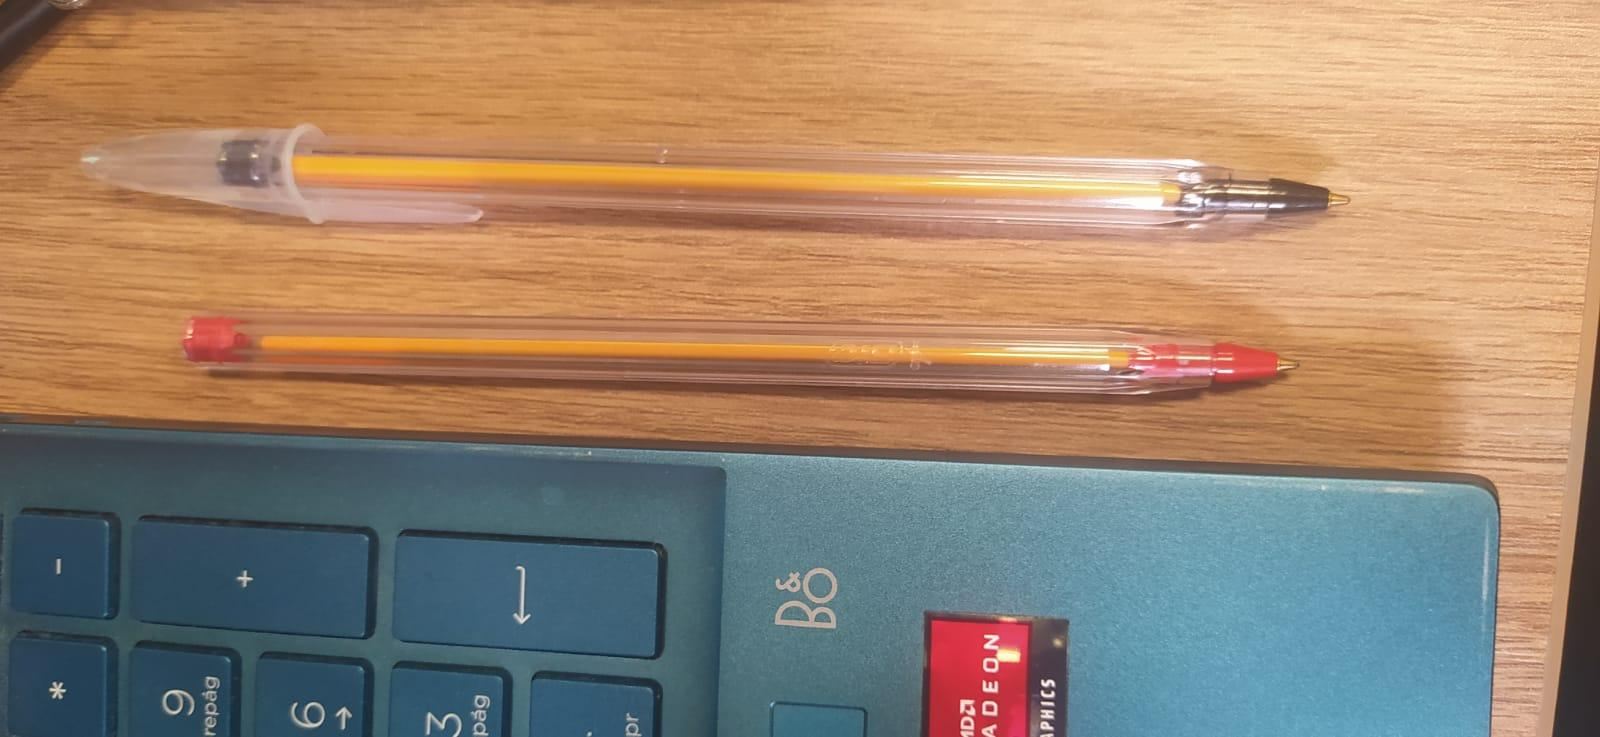pen: (72, 120, 1355, 233), (180, 309, 1306, 398)
